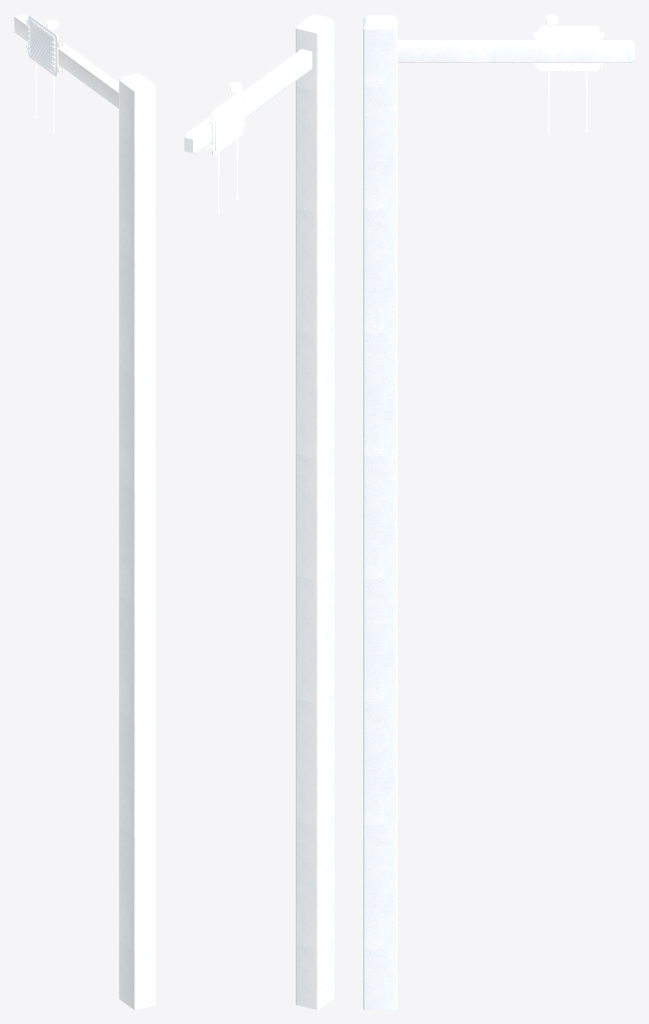
Rendered from RSU_2.glb.
3 renders of one model, left to right at view 1: azimuth 30°, elevation 25°; view 2: azimuth 150°, elevation 25°; view 3: azimuth 270°, elevation 25°, orthographic. The views are drawn at different scales.
Visible parts, largest first — view 1: RSU_2; view 2: RSU_2; view 3: RSU_2.
Boxes of the visible parts, x1=… form: RSU_2: x1=14, y1=14, x2=155, y2=1009; RSU_2: x1=184, y1=14, x2=334, y2=1009; RSU_2: x1=363, y1=14, x2=634, y2=1009.
Size of the model in its own units: 0.101 by 4 by 1.
4 materials, 1 textured.
